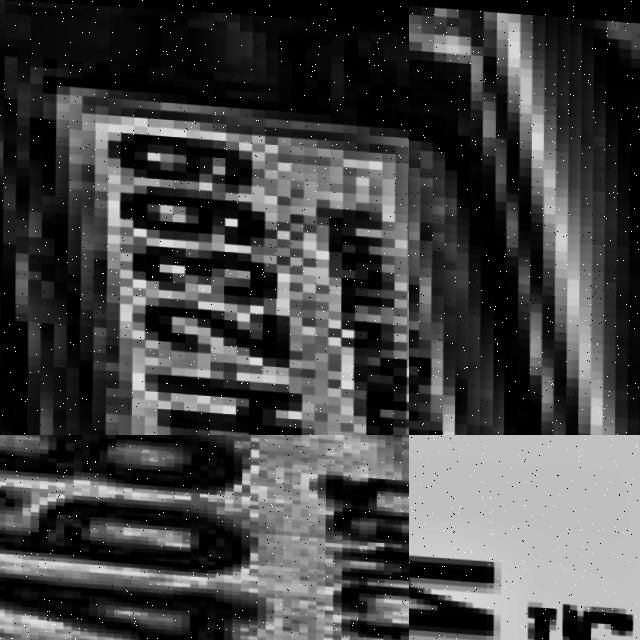license-plate: (44, 97, 409, 435), (409, 0, 640, 435), (0, 435, 409, 640), (409, 435, 640, 640)
